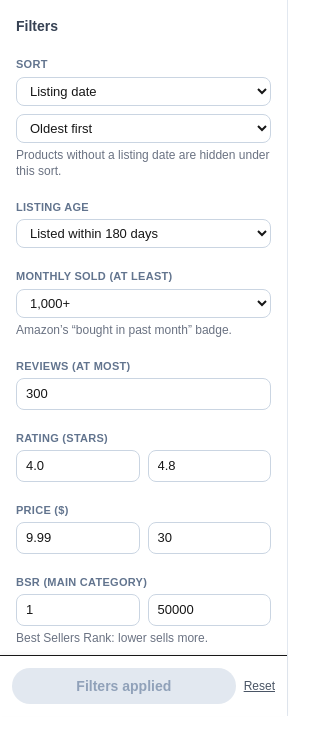
it: ProductFilterPanel Apply / Reset › Apply is disabled until something changes, and again once the edit is undone
Check: the button "Filters applied" is disabled, box [12,668,236,704]
Replace the text in the number field named "Minimum rating" with "4.5": [78, 466] box [16,450,140,482]
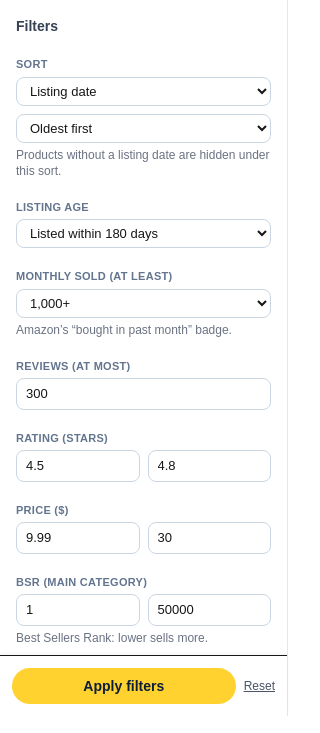
Check: the button "Apply filters" is enabled, box [12,668,236,704]
Replace the text in the number field named "Minimum rating" with "4": [78, 466] box [16,450,140,482]
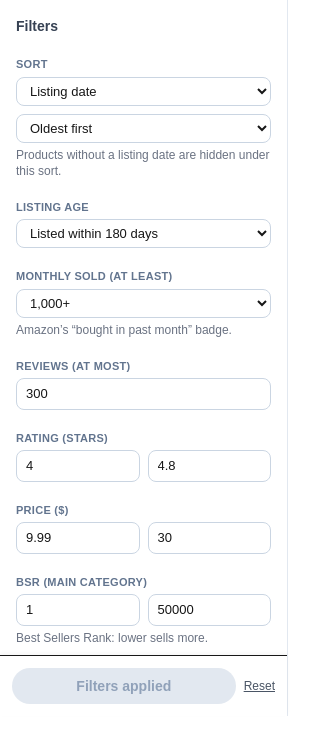
Check: the button "Filters applied" is disabled, box [12,668,236,704]
